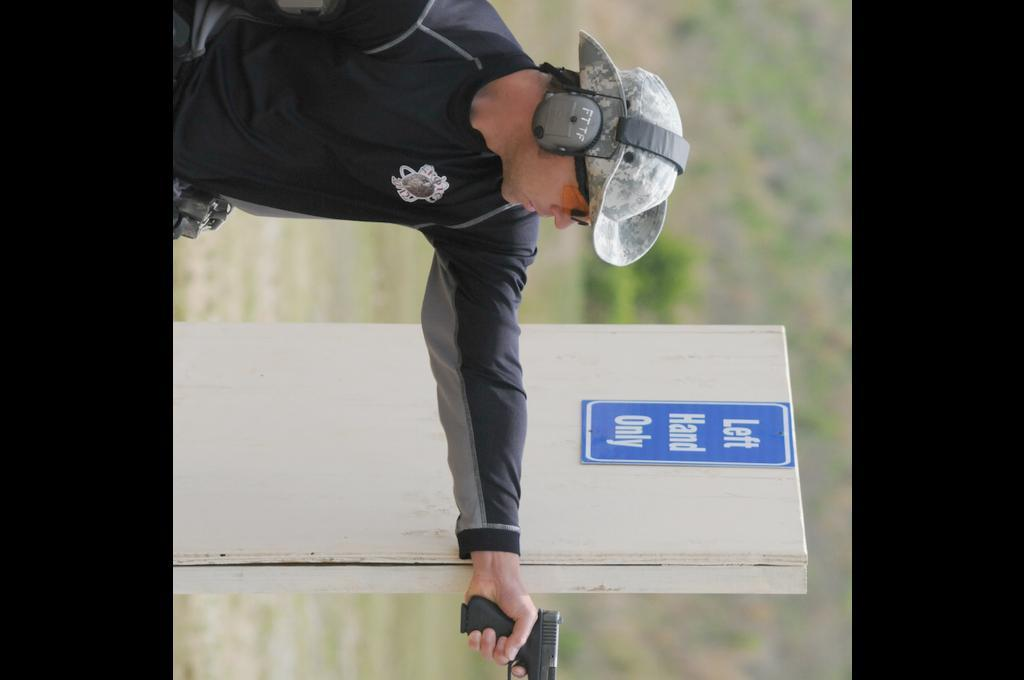gun: (451, 591, 564, 680)
